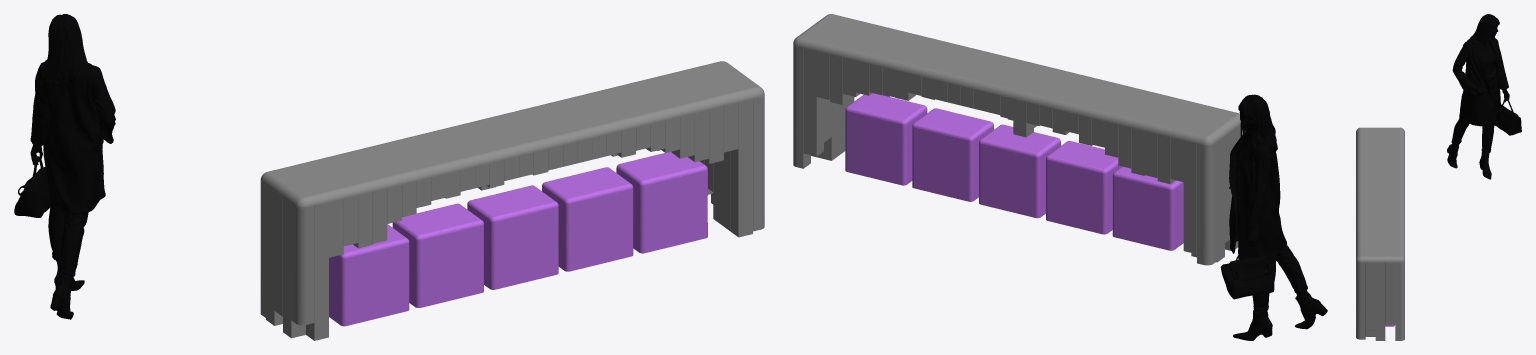
Rendered from stalactite-table.glb.
3 views of the same model, side by side, from view 1: azimuth 30°, elevation 25°; view 2: azimuth 150°, elevation 25°; view 3: azimuth 270°, elevation 25° (orthographic). The views are drawn at different scales.
Visible parts, largest first — view 1: geometry_0; view 2: geometry_0; view 3: geometry_0.
Boxes of the visible parts, left/top/right/bottom form: geometry_0: left=14, top=14, right=764, bottom=340; geometry_0: left=793, top=14, right=1327, bottom=340; geometry_0: left=1356, top=14, right=1521, bottom=340.
Bounding box in the file's own units: 4.27 × 1.76 × 1.66.
1 material, 1 textured.
